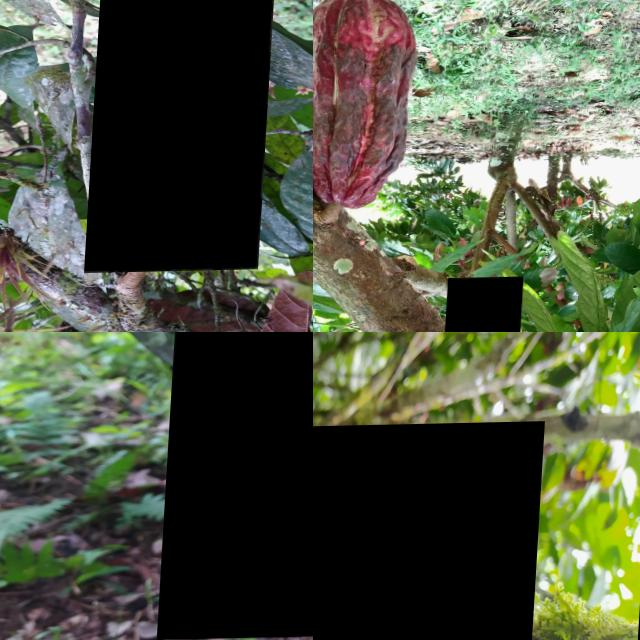Fitoftora: (313, 423, 547, 640), (313, 0, 428, 213), (445, 278, 527, 332)
Monilia: (89, 0, 277, 273), (163, 332, 313, 640)
